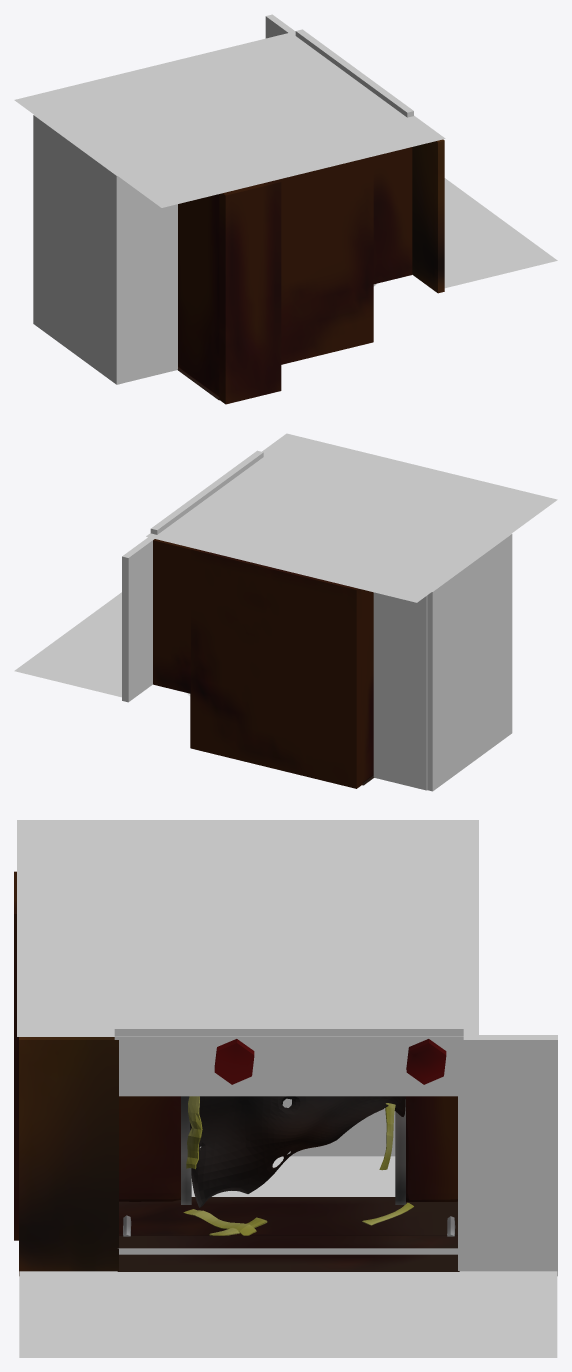
File: Salle porte détruite.fbx
3 views of the same model, one above another, from view 1: azimuth 30°, elevation 25°; view 2: azimuth 150°, elevation 25°; view 3: azimuth 270°, elevation 25° (orthographic). The views are drawn at different scales.
Parts seen in each view (by area): view 1: Plafond, Boîte 12, Plan 14, Plan 9, Salle noire, Plan 4, Sol quai, Plan 16, Plan 17, Plan 19; view 2: Plafond, Plan 13, Boîte 12, Boîte 1, Sol quai, Plan 15, Plan 7, Plan 4, Plan 19; view 3: Plafond, Sol quai, Plan 7, Plan 17, Plan 19, Porte 4, Plan 4, Plan 6, Plan, Sol petite salle, Boîte 12, Plan 18 (+7 smaller).
Part boxes in pixels (x1=…): Plafond: x1=14, y1=31, x2=445, y2=207; Boîte 12: x1=33, y1=115, x2=123, y2=384; Plan 14: x1=278, y1=156, x2=373, y2=364; Plan 9: x1=219, y1=180, x2=281, y2=404; Salle noire: x1=123, y1=180, x2=177, y2=382; Plan 4: x1=178, y1=194, x2=219, y2=396; Sol quai: x1=444, y1=178, x2=557, y2=288; Plan 16: x1=373, y1=147, x2=412, y2=284; Plan 17: x1=412, y1=139, x2=444, y2=293; Plan 19: x1=295, y1=29, x2=413, y2=117; Plafond: x1=146, y1=433, x2=557, y2=602; Plan 13: x1=190, y1=548, x2=362, y2=788; Boîte 12: x1=427, y1=533, x2=512, y2=791; Boîte 1: x1=373, y1=592, x2=427, y2=790; Sol quai: x1=14, y1=592, x2=121, y2=697; Plan 15: x1=153, y1=539, x2=191, y2=693; Plan 7: x1=122, y1=537, x2=154, y2=702; Plan 4: x1=361, y1=589, x2=373, y2=782; Plan 19: x1=150, y1=450, x2=263, y2=534; Plafond: x1=17, y1=820, x2=478, y2=1036; Sol quai: x1=19, y1=1271, x2=557, y2=1357; Plan 7: x1=458, y1=1035, x2=557, y2=1276; Plan 17: x1=19, y1=1037, x2=118, y2=1275; Plan 19: x1=114, y1=1023, x2=463, y2=1096; Porte 4: x1=190, y1=1096, x2=405, y2=1207; Plan 4: x1=119, y1=1096, x2=457, y2=1201; Plan 6: x1=119, y1=1197, x2=457, y2=1233; Plan: x1=117, y1=1236, x2=459, y2=1271; Sol petite salle: x1=191, y1=1157, x2=395, y2=1196; Boîte 12: x1=200, y1=1098, x2=395, y2=1156; Plan 18: x1=118, y1=1248, x2=459, y2=1254.
Bounding box in the file's own units: 10.77 × 5.67 × 8.17.
